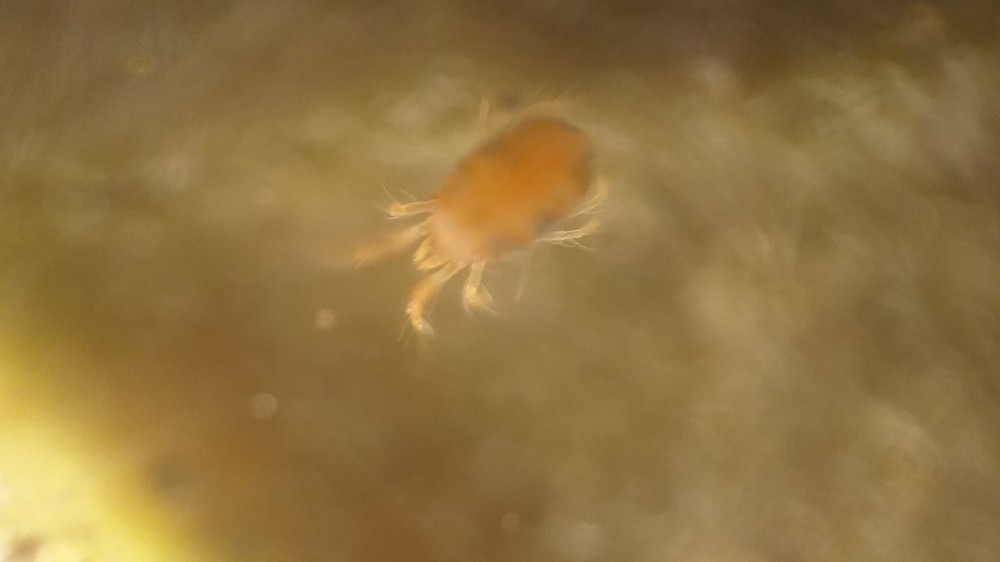Aracnido Rojo: (338, 78, 641, 339)
